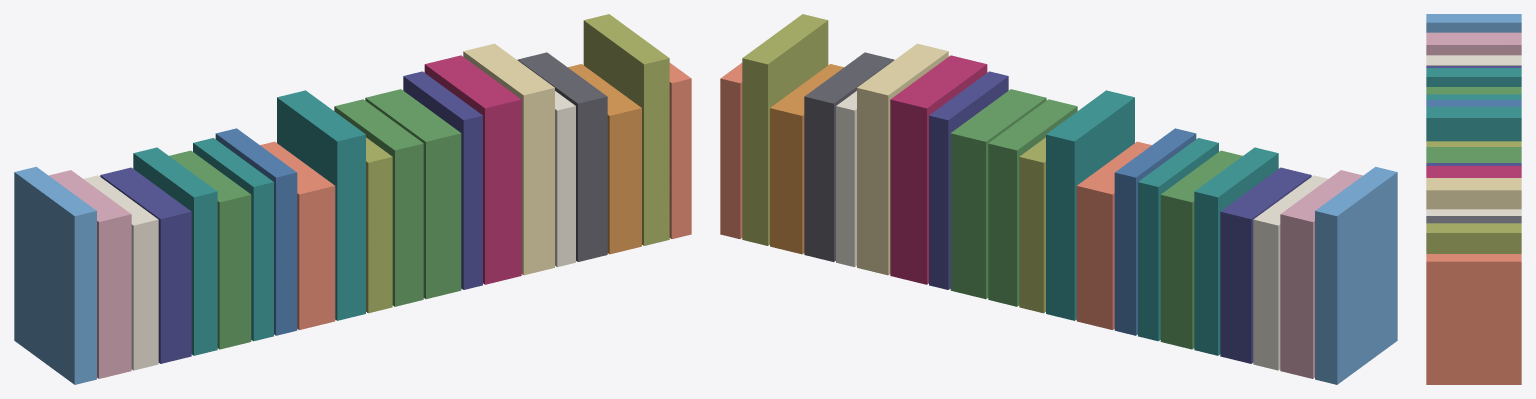
The model's file is book_row_a.glb.
3 renders of one model, left to right at view 1: azimuth 30°, elevation 25°; view 2: azimuth 150°, elevation 25°; view 3: azimuth 270°, elevation 25°, orthographic. The views are drawn at different scales.
Visible parts, largest first — view 1: book_row_a; view 2: book_row_a; view 3: book_row_a.
Boxes of the visible parts, x1,y1,x2,y2 form: book_row_a: [14, 14, 691, 384]; book_row_a: [720, 14, 1397, 384]; book_row_a: [1426, 14, 1521, 384].
Bounding box in the file's own units: 1.18 × 0.3317 × 0.2.
